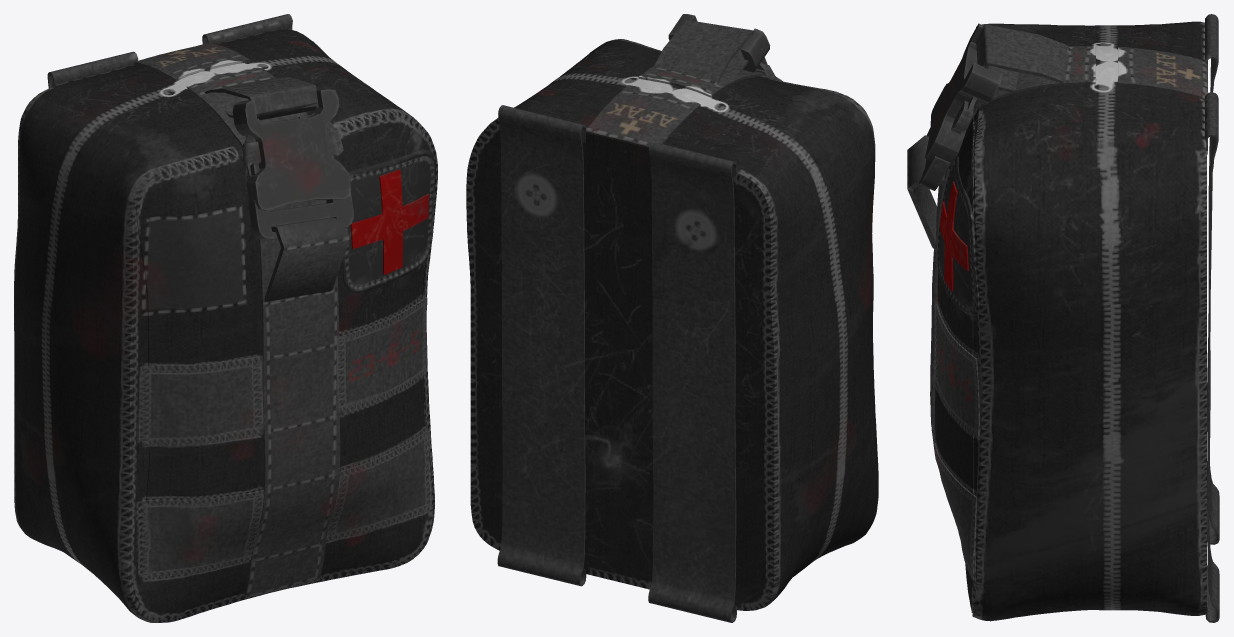
File: individual_first_aid_kit_ifakblack_color.glb
3 views of the same model, side by side, from view 1: azimuth 30°, elevation 25°; view 2: azimuth 150°, elevation 25°; view 3: azimuth 270°, elevation 25° (orthographic). The views are drawn at different scales.
Visible parts, largest first — view 1: afak_01 - Default_0; view 2: afak_01 - Default_0; view 3: afak_01 - Default_0.
Boxes of the visible parts, x1,y1,x2,y2 form: afak_01 - Default_0: (14,14,437,622); afak_01 - Default_0: (466,14,878,622); afak_01 - Default_0: (907,14,1219,622).
Size of the model in its own units: 0.4897 by 0.6792 by 0.3633.
Materials: 1 (1 with a texture image).
